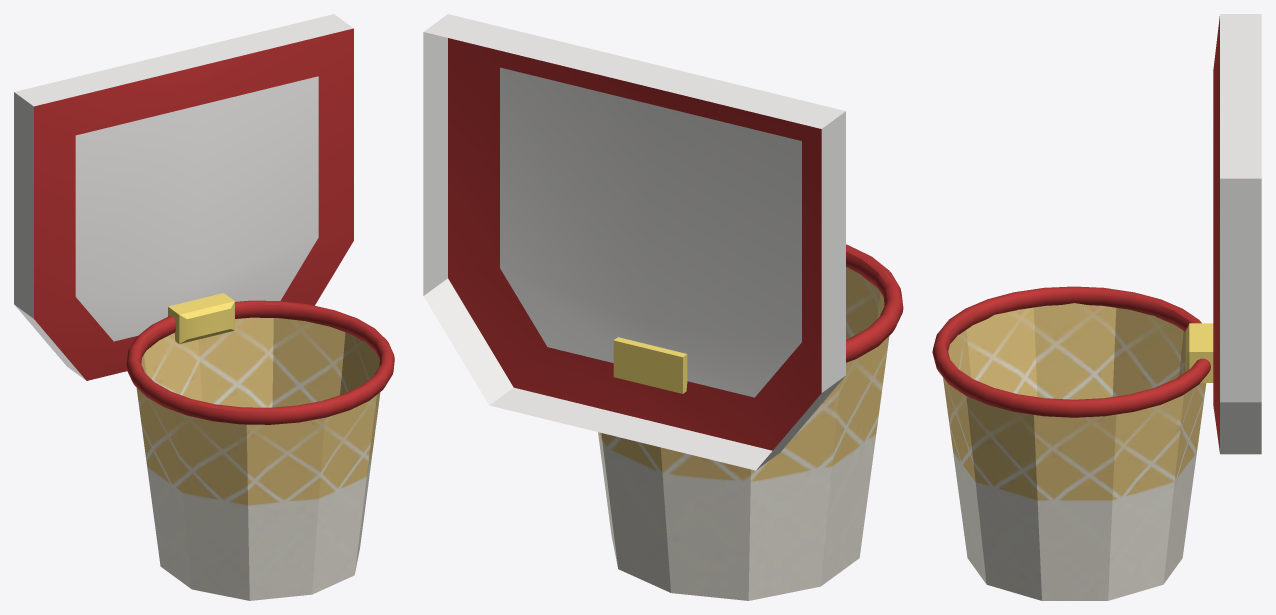
The model's file is basket ball net.fbx.
3 views of the same model, side by side, from view 1: azimuth 30°, elevation 25°; view 2: azimuth 150°, elevation 25°; view 3: azimuth 270°, elevation 25° (orthographic). The views are drawn at different scales.
Visible parts, largest first — view 1: basket ball net; view 2: basket ball net; view 3: basket ball net.
Boxes of the visible parts, left/top/right/bottom form: basket ball net: left=14, top=14, right=394, bottom=600; basket ball net: left=423, top=14, right=903, bottom=600; basket ball net: left=932, top=14, right=1261, bottom=600.
Bounding box in the file's own units: 70.51 × 92.45 × 59.62.
